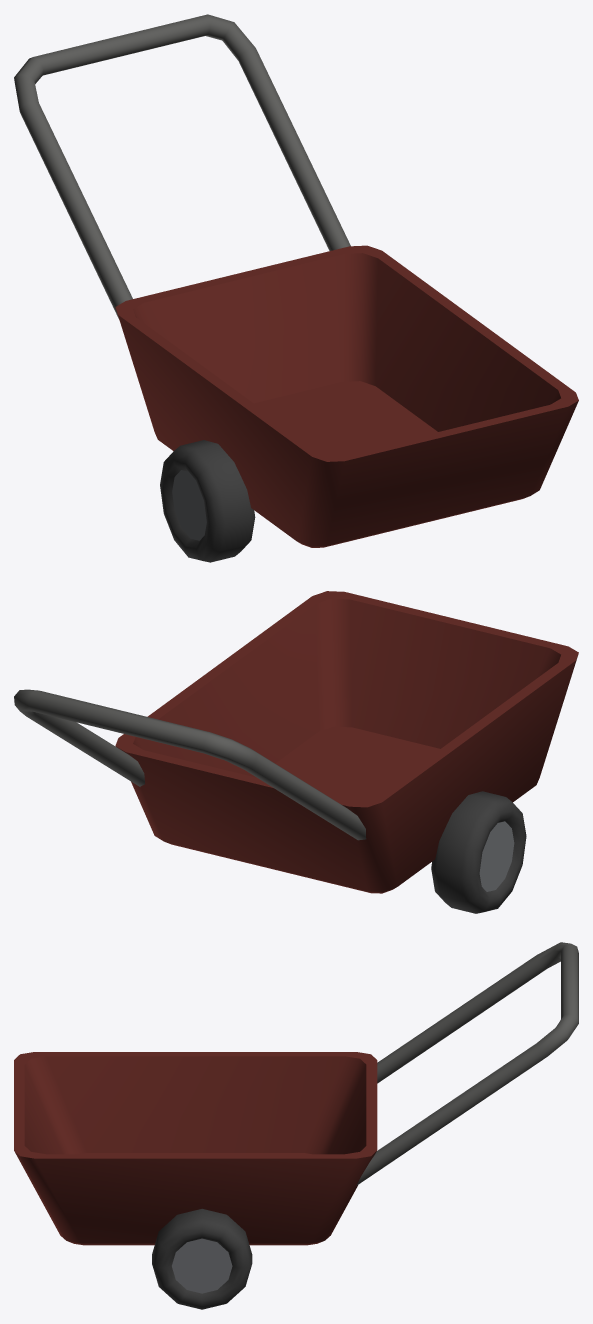
Rendered from GardenCart_1.fbx.
3 renders of one model, top to bottom at view 1: azimuth 30°, elevation 25°; view 2: azimuth 150°, elevation 25°; view 3: azimuth 270°, elevation 25°, orthographic. The views are drawn at different scales.
Visible parts, largest first — view 1: GardenCart_1; view 2: GardenCart_1; view 3: GardenCart_1.
Boxes of the visible parts, box(x1,y1,x2,y2) form: GardenCart_1: box(14, 14, 578, 562); GardenCart_1: box(14, 591, 578, 913); GardenCart_1: box(14, 942, 578, 1309).
Size of the model in its own units: 165 by 160 by 305.
